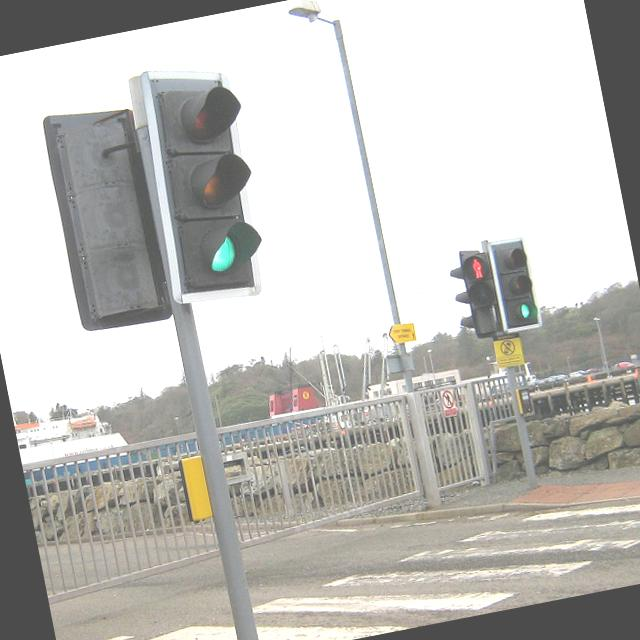Vehicle: (538, 375, 567, 392), (524, 378, 538, 392), (618, 361, 636, 370), (586, 366, 603, 374), (576, 368, 590, 377), (568, 371, 584, 378), (560, 374, 570, 380)
